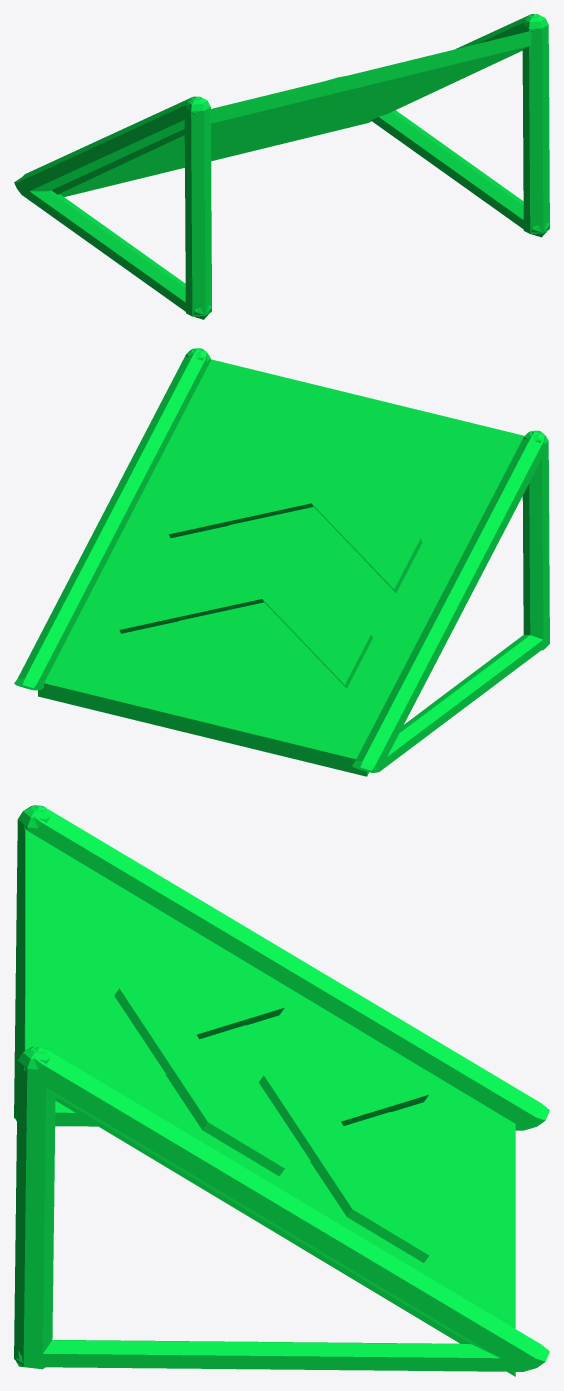
Rendered from hill.fbx.
3 views of the same model, one above another, from view 1: azimuth 30°, elevation 25°; view 2: azimuth 150°, elevation 25°; view 3: azimuth 270°, elevation 25° (orthographic). The views are drawn at different scales.
Parts seen in each view (by area): view 1: hill; view 2: hill, Cube_1, Cube; view 3: hill, Cube_1, Cube.
Boxes of the visible parts, x1=… form: hill: x1=14, y1=14, x2=549, y2=319; hill: x1=14, y1=348, x2=549, y2=776; Cube_1: x1=168, y1=452, x2=422, y2=592; Cube: x1=119, y1=548, x2=372, y2=688; hill: x1=14, y1=805, x2=549, y2=1376; Cube_1: x1=114, y1=961, x2=284, y2=1176; Cube: x1=259, y1=1048, x2=429, y2=1262.
Bounding box in the file's own units: 680 × 413 × 604.
